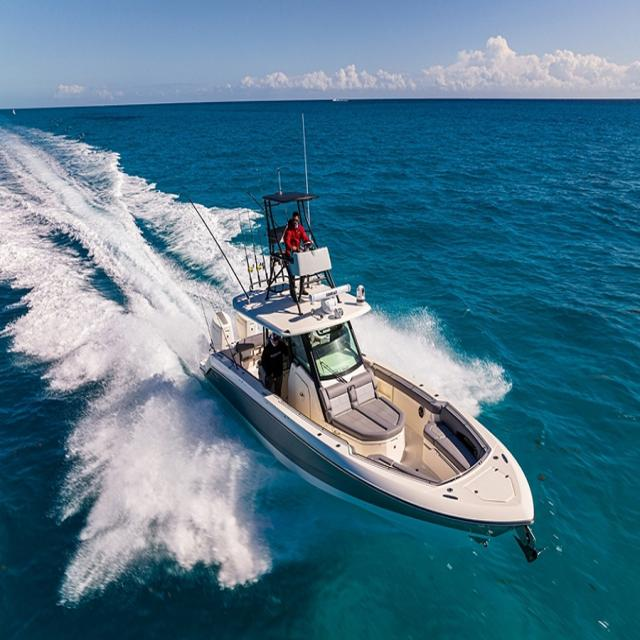Fishing Boat: (143, 127, 533, 585)
